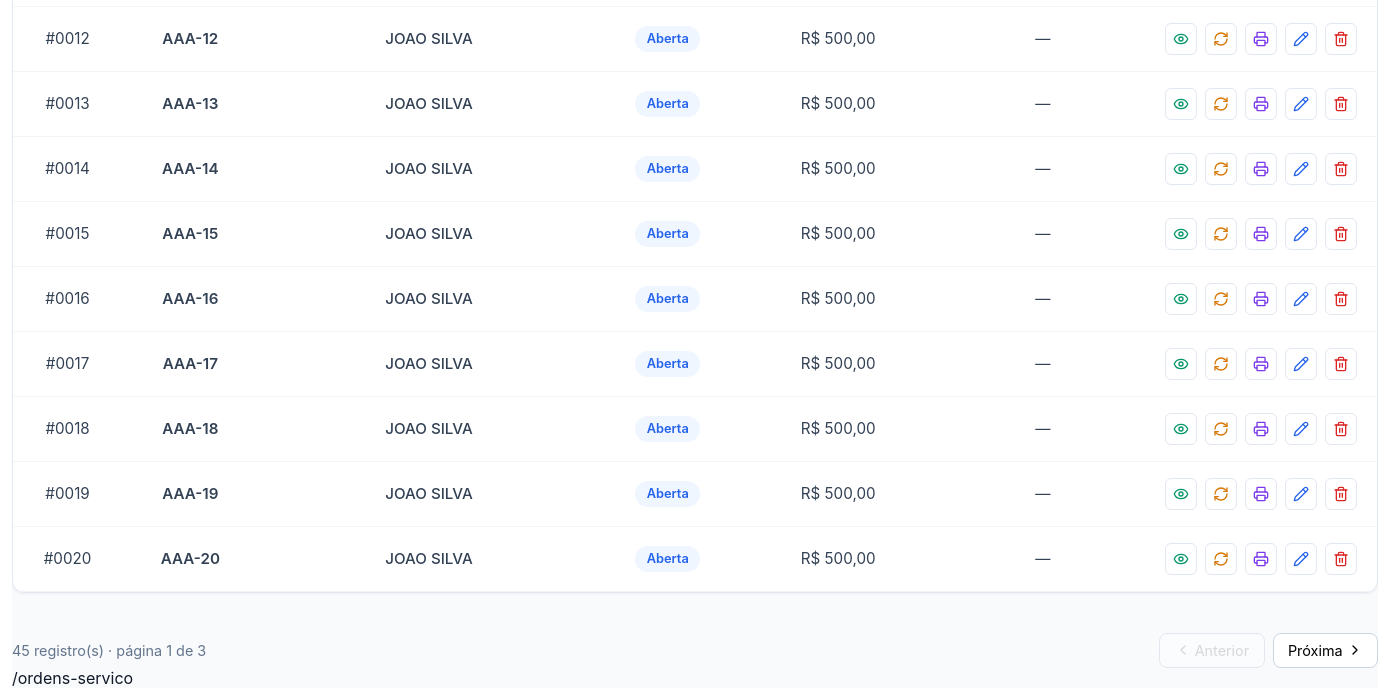
Test: Página de Ordens de Serviço › pesquisa e filtros (no servidor) › mudar o filtro de status volta para a primeira página
(page scrolled)
Click the button "Próxima": (1325, 650) [1272,633,1378,668]
(page scrolled)
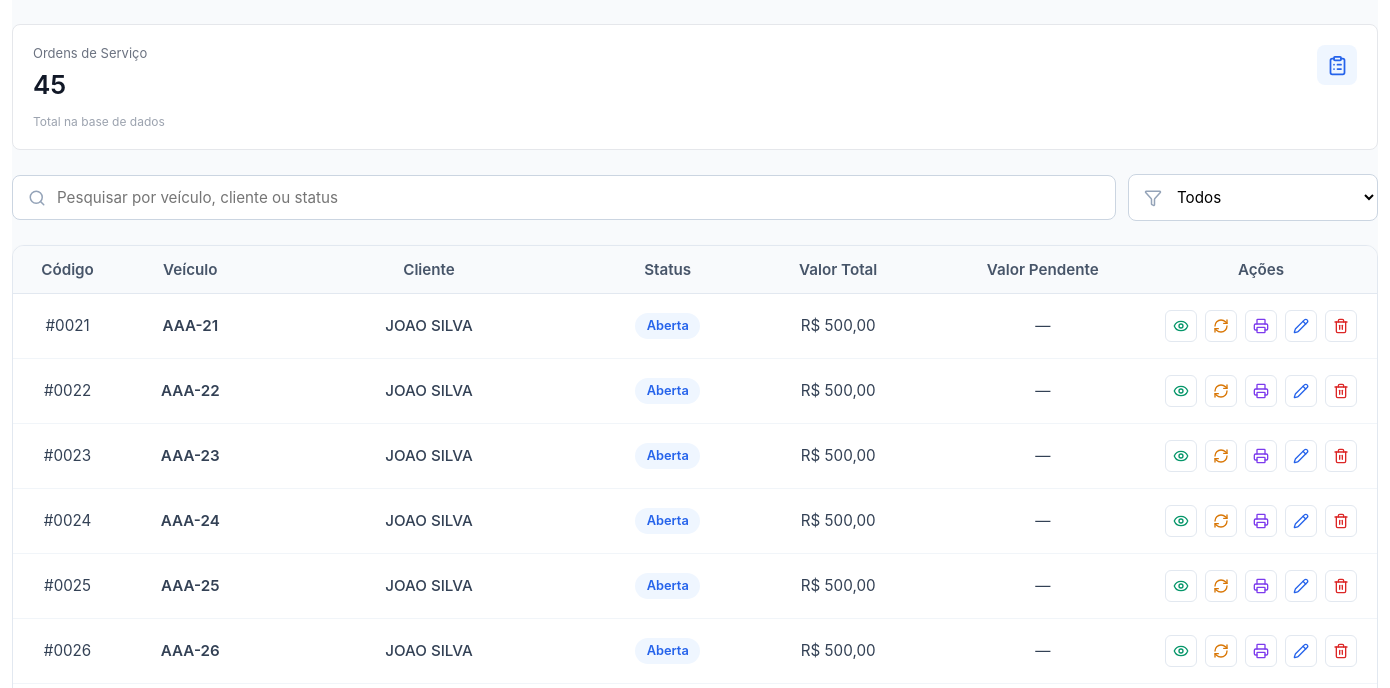
Now the text "#0021" is shown, box [13,293,122,358]
Select "Aberta" in the dropdown named "Filtrar por status": (1253, 198) [1128,174,1378,221]
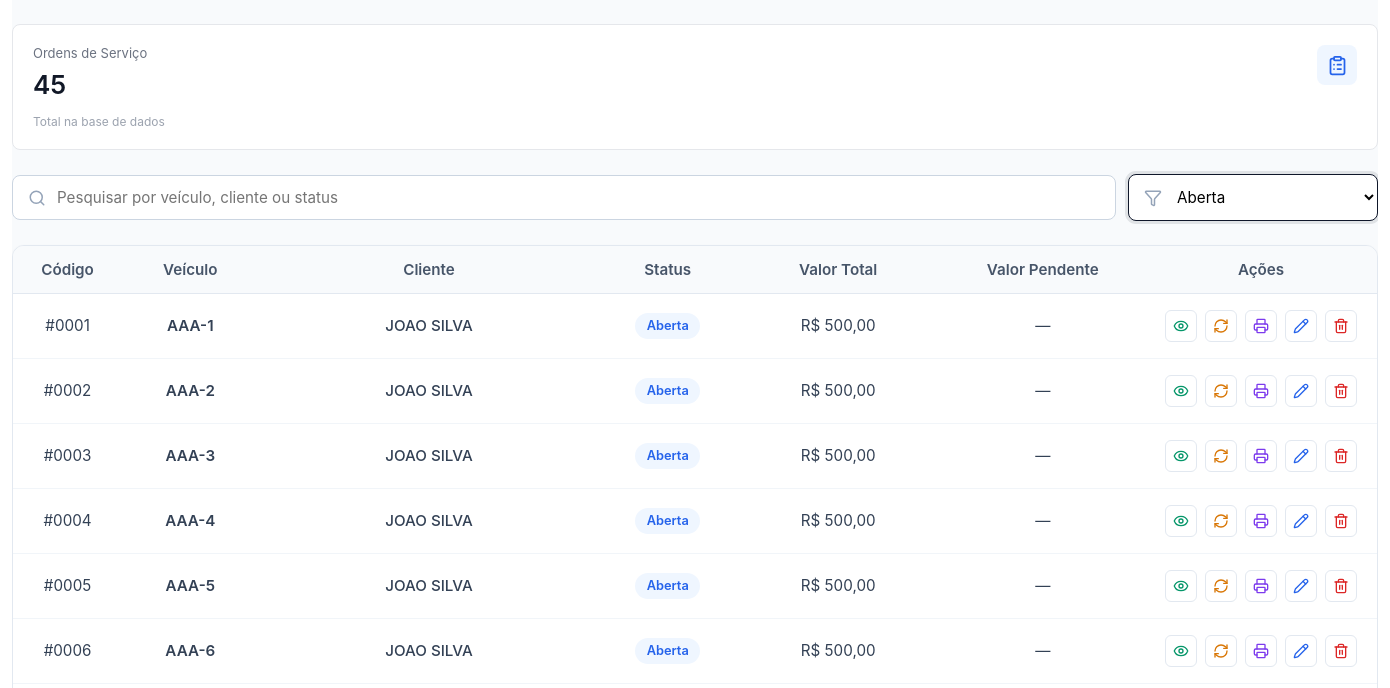
Now the text "#0001" is shown, box [13,293,122,358]
